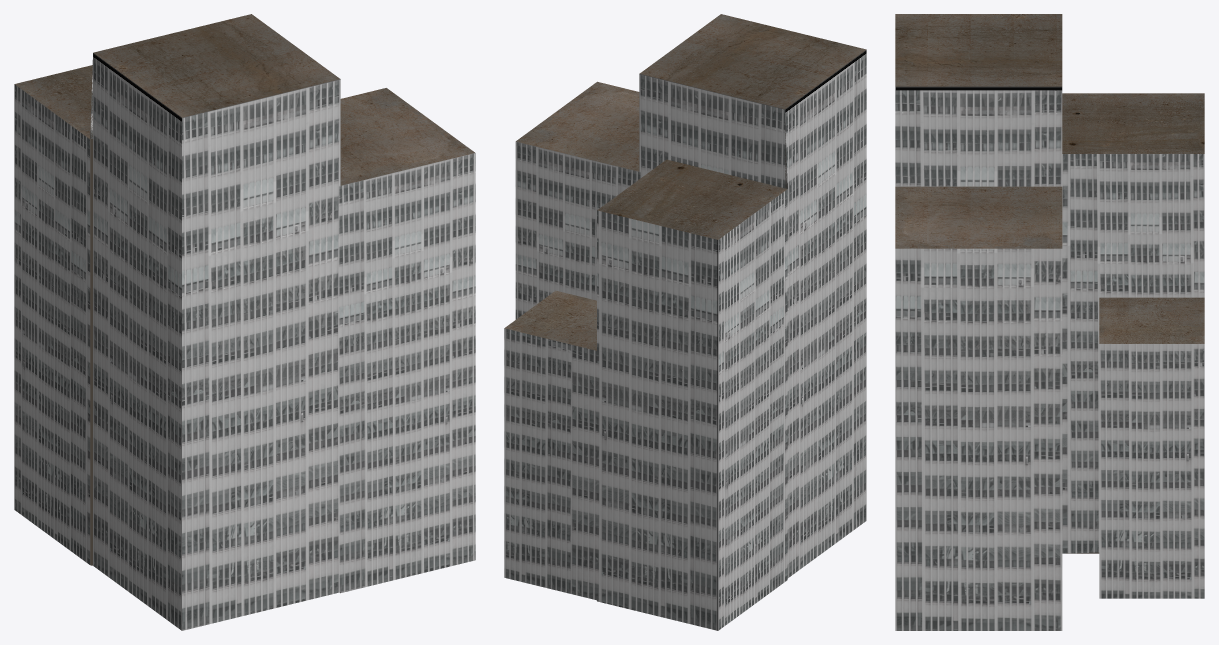
File: Building13.fbx
3 renders of one model, left to right at view 1: azimuth 30°, elevation 25°; view 2: azimuth 150°, elevation 25°; view 3: azimuth 270°, elevation 25°, orthographic. The views are drawn at different scales.
Visible parts, largest first — view 1: BuildingsSCene15:SmallBuilding3; view 2: BuildingsSCene15:SmallBuilding3; view 3: BuildingsSCene15:SmallBuilding3.
Part boxes in pixels (x1,y1,x2,y2): BuildingsSCene15:SmallBuilding3: [14, 14, 475, 630]; BuildingsSCene15:SmallBuilding3: [504, 14, 866, 630]; BuildingsSCene15:SmallBuilding3: [895, 14, 1204, 630].
Bounding box in the file's own units: 0.8333 × 1.38 × 0.8019.
